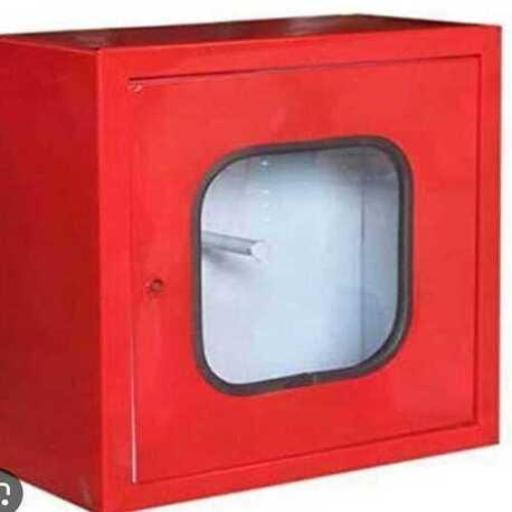fire_hose: (0, 12, 512, 508)
